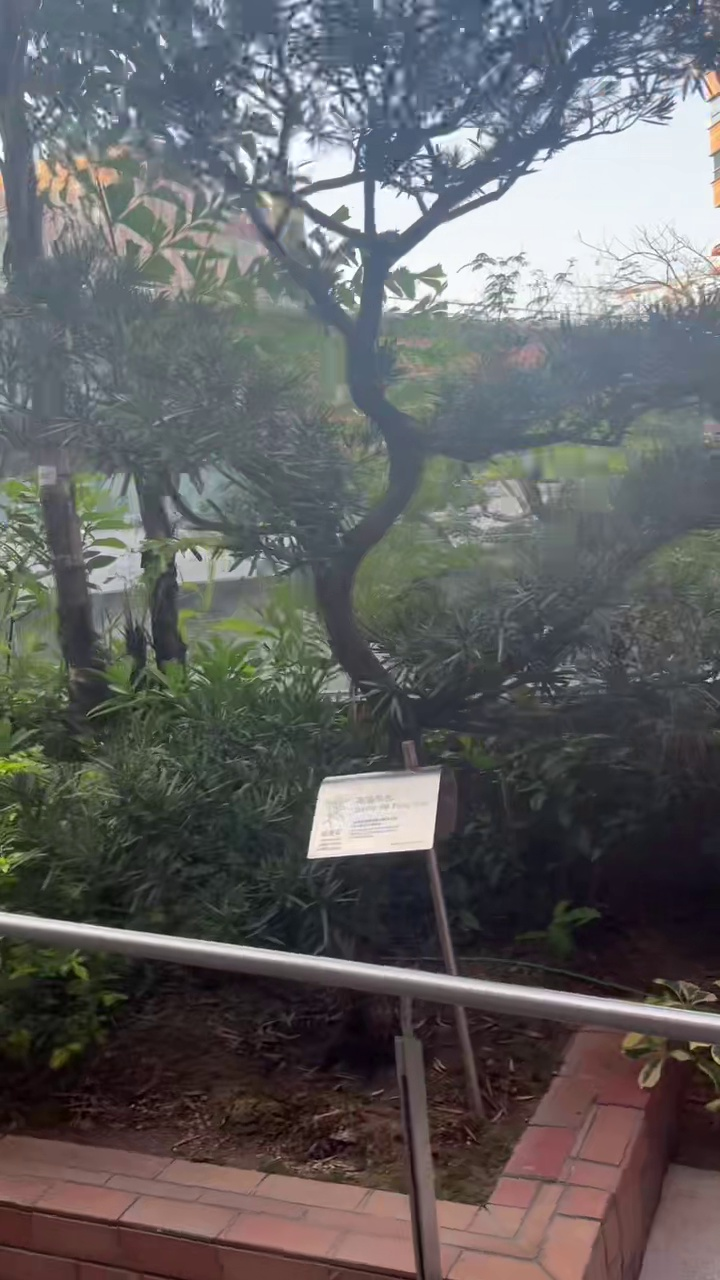Podocarpus macrophyllus: (82, 0, 711, 693)
